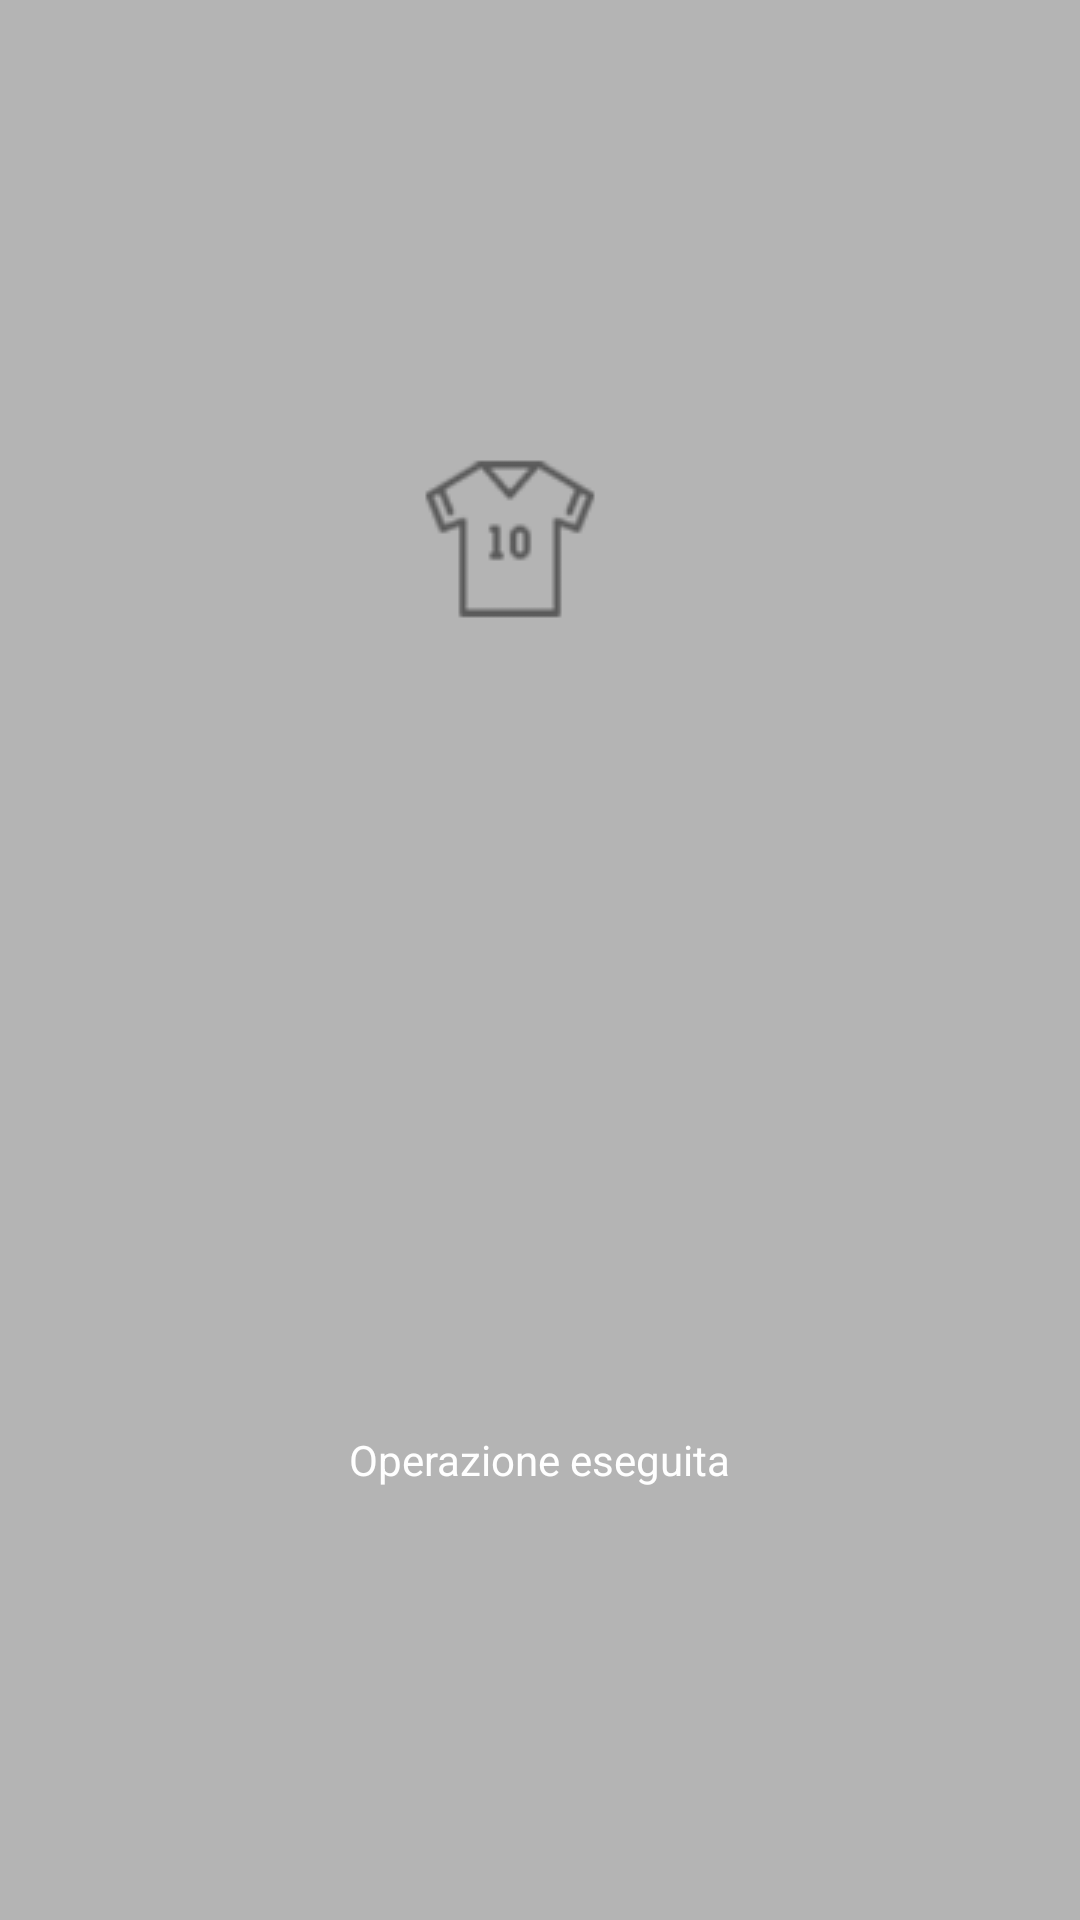

Where to tap for icons on this 1080px x 1920px app screen, as point (x, y):
player: point (510, 539)
